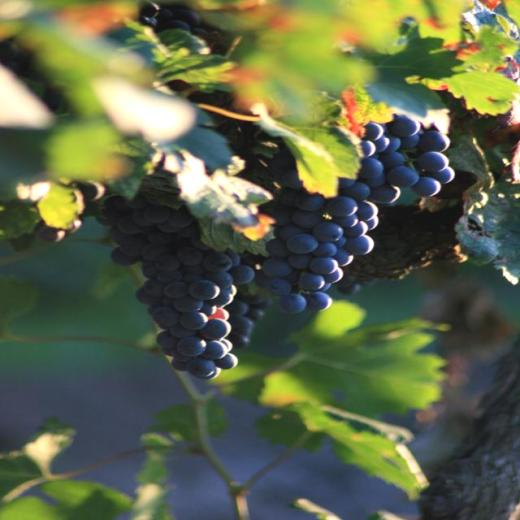Orange: (16, 114, 454, 380)
